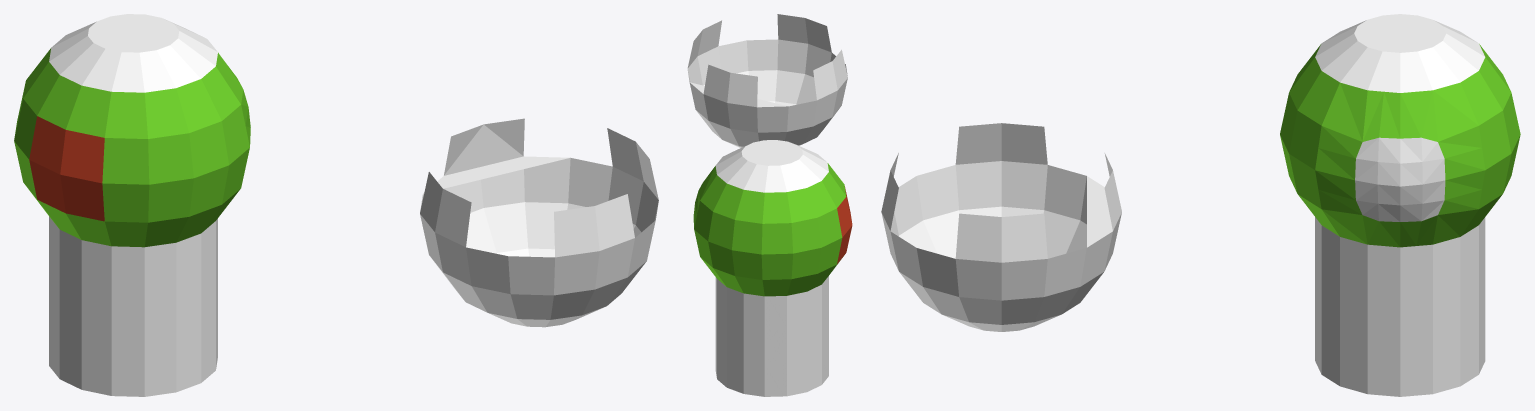
The model's file is TopSphere.obj.
3 renders of one model, left to right at view 1: azimuth 30°, elevation 25°; view 2: azimuth 150°, elevation 25°; view 3: azimuth 270°, elevation 25°, orthographic. The views are drawn at different scales.
Parts seen in each view (by area): view 1: TopSphere, sphereJoin, TopSphereTube; view 2: TopSphere, sphereJoin, TopSphereTube; view 3: TopSphere, sphereJoin, TopSphereTube.
Part boxes in pixels (x1,y1,x2,y2): TopSphere: (14, 14, 250, 247); sphereJoin: (420, 118, 658, 327); TopSphereTube: (49, 216, 217, 396); TopSphere: (693, 140, 852, 296); sphereJoin: (687, 14, 847, 147); TopSphereTube: (715, 276, 828, 396); TopSphere: (1280, 14, 1520, 247); sphereJoin: (881, 123, 1121, 331); TopSphereTube: (1315, 217, 1485, 396).
Size of the model in its own units: 3.98 by 3 by 5.31.
